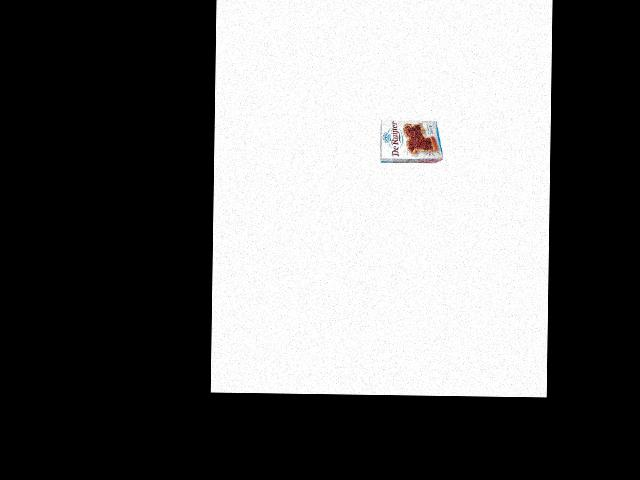chocolate: (376, 114, 442, 169)
